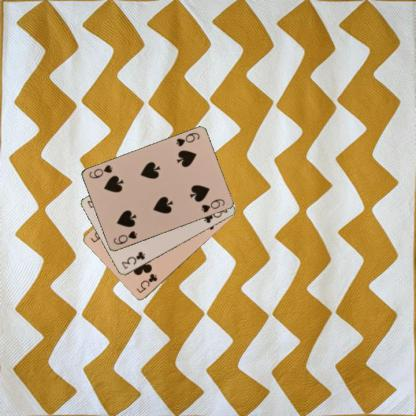3c: (119, 249, 146, 270)
5c: (134, 271, 158, 295)
6s: (111, 228, 138, 246), (174, 130, 200, 148)
